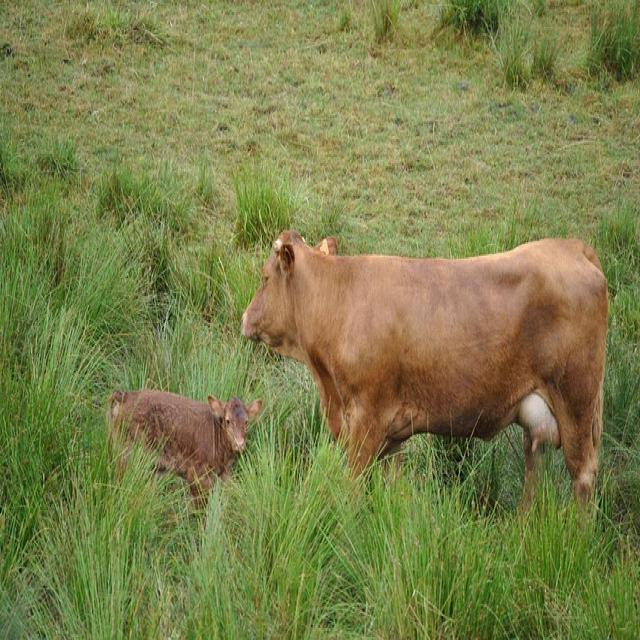cow: (238, 229, 607, 541), (108, 385, 260, 524)
